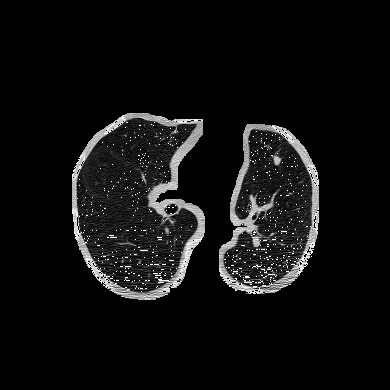PN: (273, 157, 281, 165)
